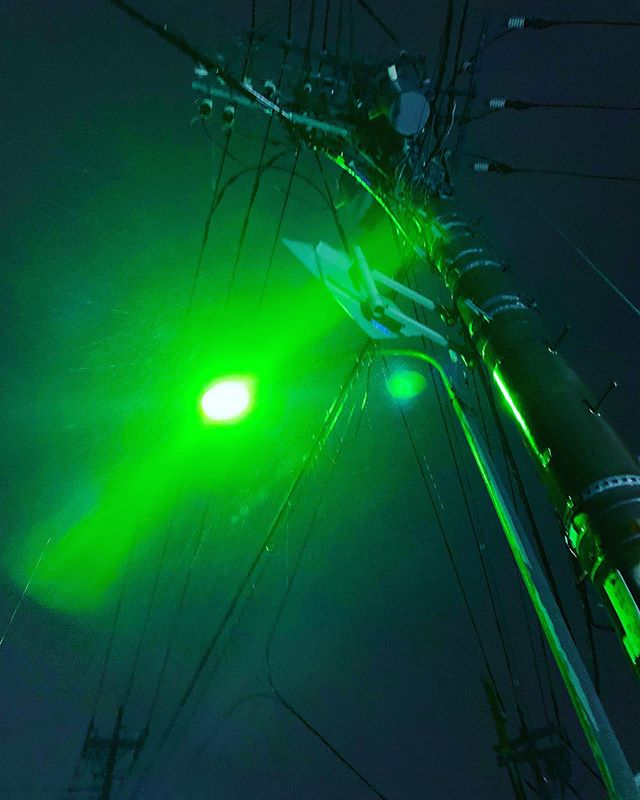power pole: (212, 42, 640, 709)
sky: (1, 21, 401, 800)
